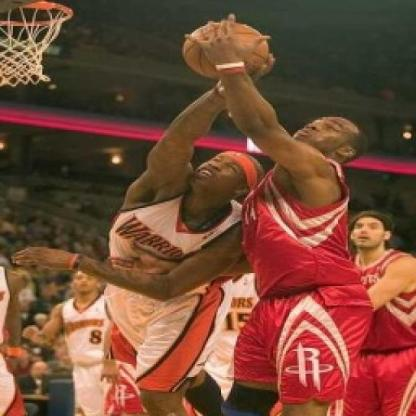basketball: (181, 14, 274, 84)
